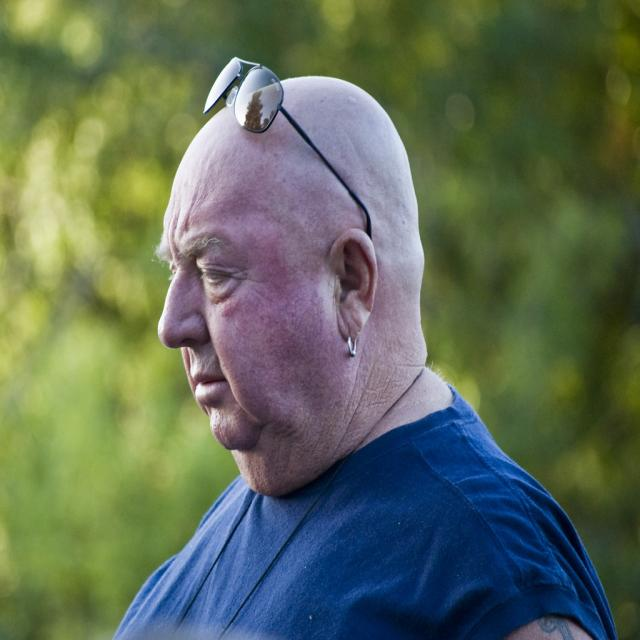no_helmet: (138, 54, 458, 250)
